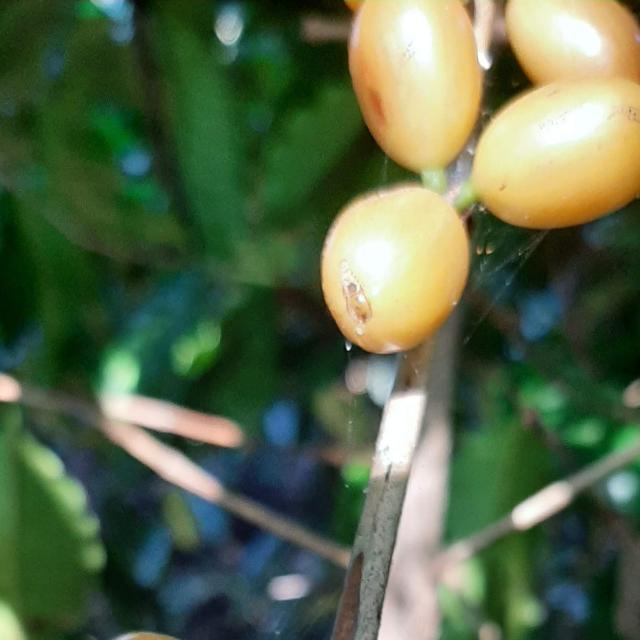red: (471, 77, 640, 229), (321, 184, 470, 354), (349, 0, 483, 172), (506, 0, 640, 84)
